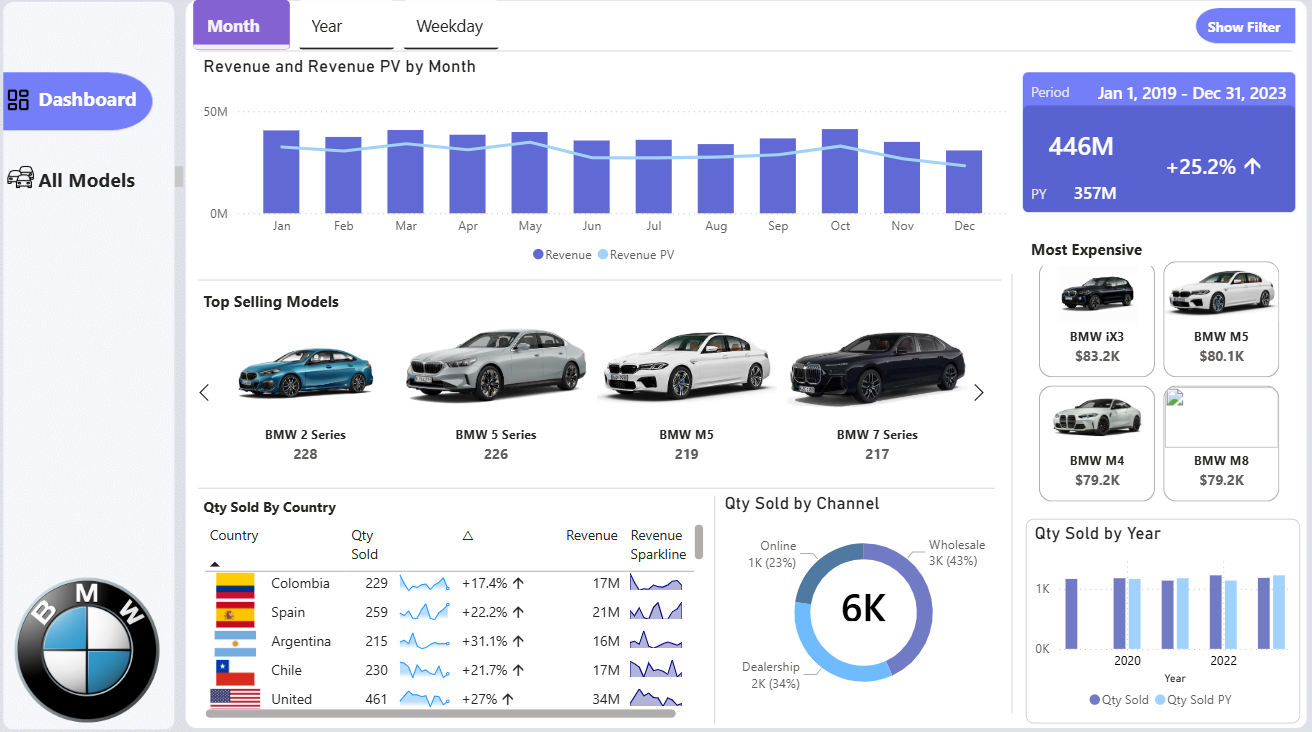

The page's visual inventory and layout, read from the dashboard file:
{"tool":"powerbi","page":{"name":"Dashboard","canvas":[1280,720],"ordinal":0},"visuals":[{"type":"lineStackedColumnComboChart","fields":{"Category":["Calendar.Month"],"Y":["All Measure.Revenue"],"Y2":["All Measure.Revenue PV"]},"box":[199.6,58.4,786.8,211],"z":0},{"type":"advancedSlicerVisual","fields":{"Values":["PeriodSilcer.PeriodSilcer"]},"box":[189.6,0,307.9,58.4],"z":1000},{"type":"textbox","box":[997.6,177,38.4,27.4],"z":2000},{"type":"cardVisual","fields":{"Data":["All Measure.Revenue Variance % Arrow"]},"box":[1100.5,135.8,157.8,54.9],"z":3000},{"type":"cardVisual","fields":{"Data":["All Measure.Revenue"]},"box":[981.1,112.5,141.3,64.5],"z":4000},{"type":"cardVisual","fields":{"Data":["All Measure.Revenue PV"]},"box":[1014.1,163.3,100.2,53.5],"z":5000},{"type":"cardVisual","fields":{"Data":["All Measure.Selected Perios"]},"box":[1036,59,244.3,67.2],"z":6000},{"type":"textbox","box":[997.6,79.6,67.2,32.9],"z":7000},{"type":"advancedSlicerVisual","fields":{"Values":["dn Models.Model"]},"box":[189.4,299.1,778,170.2],"z":8000},{"type":"textbox","box":[199,279.9,144.1,31.6],"z":9000},{"type":"advancedSlicerVisual","fields":{"Values":["dn Models.Model"]},"box":[985.7,252.1,282.3,243.7],"z":10000},{"type":"textbox","box":[997.6,230.5,129,31.6],"z":11000},{"type":"clusteredColumnChart","title":"Qty Sold by Year","fields":{"Y":["All Measure.Qty Sold","All Measure.Qty Sold PY"],"Category":["Calendar.Year"]},"box":[997.6,505,264.8,197.6],"z":12000},{"type":"donutChart","fields":{"Y":["All Measure.Qty Sold"],"Category":["dmChannels.Channel"]},"box":[702.6,480.3,278.6,211.3],"z":13000},{"type":"cardVisual","fields":{"Data":["All Measure.Qty Sold"]},"box":[783.5,557.1,116.6,64.5],"z":14000},{"type":"tableEx","fields":{"Values":["dmCountry.Flag","dmCountry.Country","All Measure.Qty Sold","All Measure.Qty Sold Gradient Sparkline","All Measure.Qty Sold Variance % Arrow","All Measure.Revenue","All Measure.Revenue Sparkline"]},"box":[199,505,492.6,197.6],"z":15000},{"type":"textbox","box":[199,480.3,160.5,31.6],"z":16000},{"type":"textbox","box":[39.8,82,149.6,37.4],"z":17000},{"type":"image","box":[6,89.3,38.6,24.1],"z":18000},{"type":"image","box":[6,162.9,43.4,25.3],"z":19000},{"type":"textbox","box":[39.8,160.5,149.6,32.6],"z":20000},{"type":"actionButton","box":[6,156.8,139.9,39.8],"z":21000},{"type":"actionButton","box":[1158.1,9.9,100.5,39.7],"z":23000},{"type":"image","box":[14.9,562.3,153.9,140.3],"z":24000}]}

Visuals, with their boxes on the page's 1280x720 design canvas (x1, y1, x2, y2). These are canvas units, not pixel positions in the 1312x732 screenshot, which may show the page scaled, cropped or inside an application window:
lineStackedColumnComboChart - Calendar.Month x All Measure.Revenue: [x1=200, y1=58, x2=986, y2=269]
advancedSlicerVisual - PeriodSilcer.PeriodSilcer: [x1=190, y1=0, x2=498, y2=58]
textbox: [x1=998, y1=177, x2=1036, y2=204]
cardVisual - All Measure.Revenue Variance % Arrow: [x1=1100, y1=136, x2=1258, y2=191]
cardVisual - All Measure.Revenue: [x1=981, y1=112, x2=1122, y2=177]
cardVisual - All Measure.Revenue PV: [x1=1014, y1=163, x2=1114, y2=217]
cardVisual - All Measure.Selected Perios: [x1=1036, y1=59, x2=1280, y2=126]
textbox: [x1=998, y1=80, x2=1065, y2=112]
advancedSlicerVisual - dn Models.Model: [x1=189, y1=299, x2=967, y2=469]
textbox: [x1=199, y1=280, x2=343, y2=312]
advancedSlicerVisual - dn Models.Model: [x1=986, y1=252, x2=1268, y2=496]
textbox: [x1=998, y1=230, x2=1127, y2=262]
"Qty Sold by Year" clusteredColumnChart: [x1=998, y1=505, x2=1262, y2=703]
donutChart - All Measure.Qty Sold x dmChannels.Channel: [x1=703, y1=480, x2=981, y2=692]
cardVisual - All Measure.Qty Sold: [x1=784, y1=557, x2=900, y2=622]
tableEx - dmCountry.Flag x dmCountry.Country: [x1=199, y1=505, x2=692, y2=703]
textbox: [x1=199, y1=480, x2=360, y2=512]
textbox: [x1=40, y1=82, x2=189, y2=119]
image: [x1=6, y1=89, x2=45, y2=113]
image: [x1=6, y1=163, x2=49, y2=188]
textbox: [x1=40, y1=160, x2=189, y2=193]
actionButton: [x1=6, y1=157, x2=146, y2=197]
actionButton: [x1=1158, y1=10, x2=1259, y2=50]
image: [x1=15, y1=562, x2=169, y2=703]
